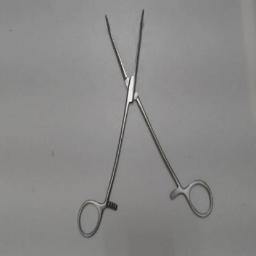Lahey Forceps: (75, 3, 217, 245)
